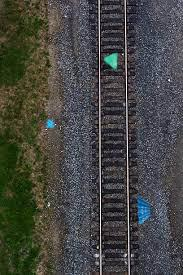Color_steel: (133, 191, 152, 225)
Dust_screen: (103, 49, 120, 71)
